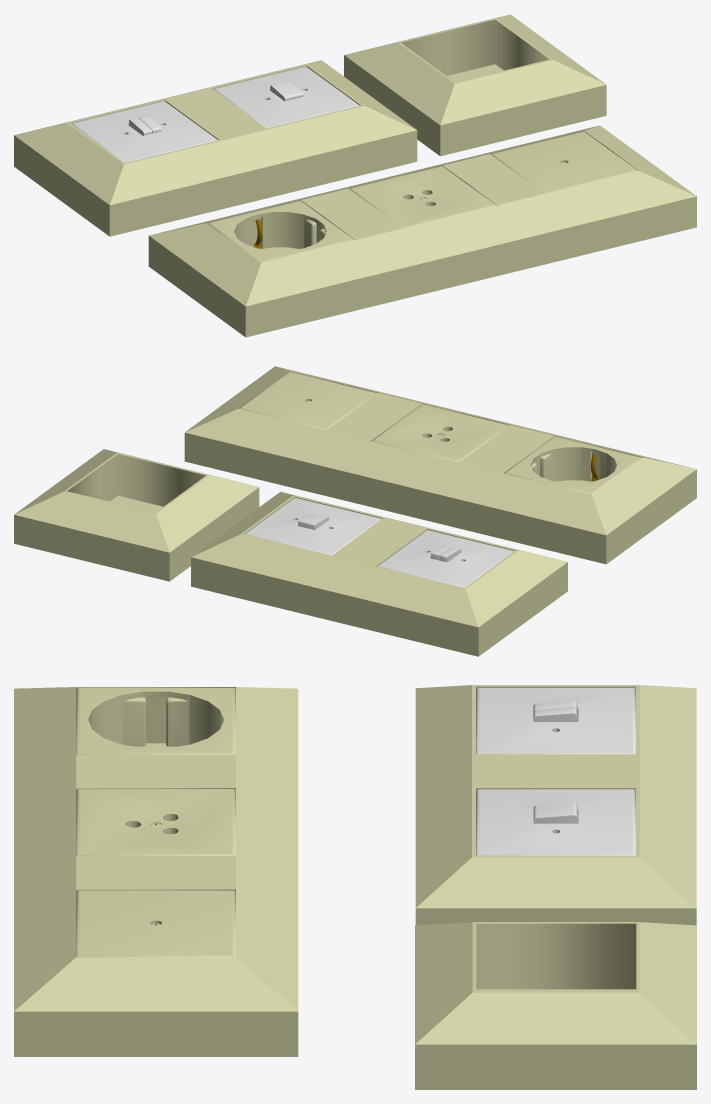
The model's file is KuuraKatkasijat2.FBX.
3 views of the same model, one above another, from view 1: azimuth 30°, elevation 25°; view 2: azimuth 150°, elevation 25°; view 3: azimuth 270°, elevation 25° (orthographic). The views are drawn at different scales.
Visible parts, largest first — view 1: TriplaMod, TuplaMod, SingMod, PistoMod, TeleMod, TyhjäMod, TuplaKatkasijaMod, SingleKatkasijaMod; view 2: TriplaMod, TuplaMod, SingMod, PistoMod, TeleMod, TyhjäMod, TuplaKatkasijaMod, SingleKatkasijaMod; view 3: TriplaMod, SingMod, TuplaMod, PistoMod, TyhjäMod, TeleMod, SingleKatkasijaMod, TuplaKatkasijaMod, SoloKatkasija.
Boxes of the visible parts, x1,y1,x2,y2 form: TriplaMod: [148, 125, 696, 337]; TuplaMod: [14, 60, 417, 236]; SingMod: [344, 14, 606, 156]; PistoMod: [207, 200, 354, 262]; TeleMod: [349, 166, 495, 228]; TyhjäMod: [491, 131, 637, 193]; TuplaKatkasijaMod: [71, 101, 217, 162]; SingleKatkasijaMod: [213, 66, 359, 128]; TriplaMod: [184, 366, 696, 564]; TuplaMod: [191, 491, 567, 656]; SingMod: [14, 449, 259, 581]; PistoMod: [505, 436, 641, 494]; TeleMod: [372, 404, 509, 462]; TyhjäMod: [240, 372, 376, 429]; TuplaKatkasijaMod: [377, 530, 513, 587]; SingleKatkasijaMod: [245, 497, 381, 555]; TriplaMod: [14, 687, 298, 1056]; SingMod: [415, 922, 696, 1089]; TuplaMod: [415, 685, 696, 925]; PistoMod: [76, 687, 235, 754]; TyhjäMod: [76, 890, 235, 957]; TeleMod: [76, 789, 235, 855]; SingleKatkasijaMod: [476, 789, 635, 855]; TuplaKatkasijaMod: [476, 688, 635, 754]; SoloKatkasija: [533, 802, 578, 823].
Bounding box in the file's own units: 21.08 × 2.41 × 17.08.
